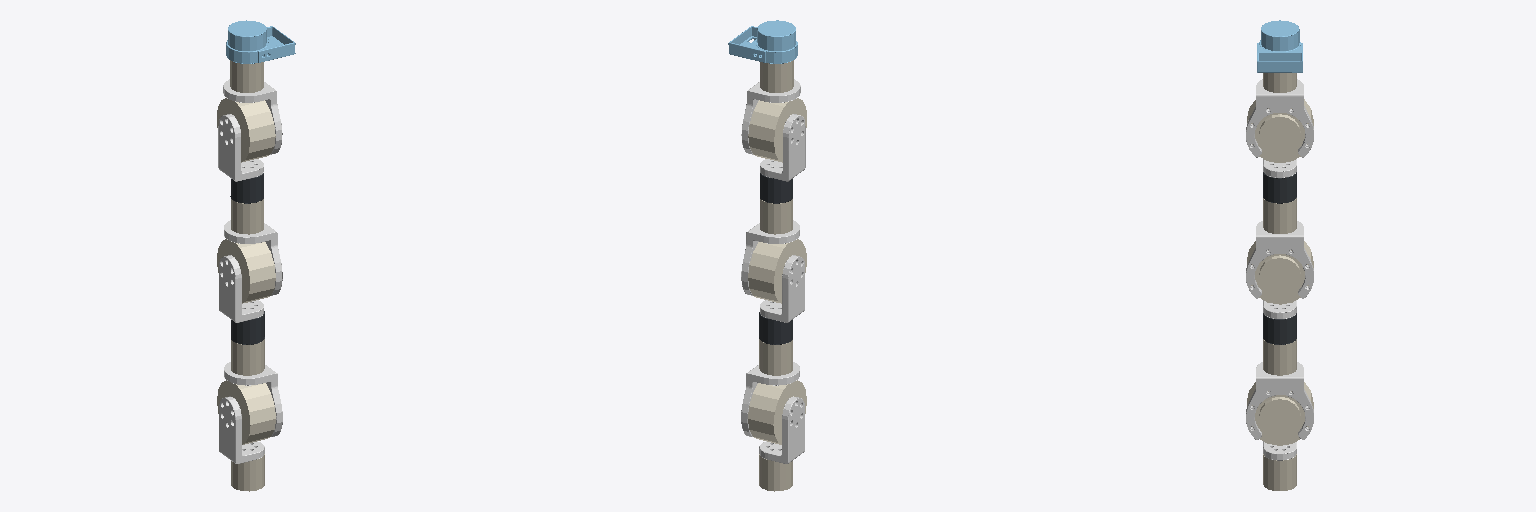
URDF robot description (simple_assembly):
<!--URDF generated by ONSHAPE BY PTC INC, 1.214-->
<robot name="simple_assembly">
    <link name="cam_mount_assy__1_" />
    <link name="part_1">
        <inertial>
            <mass value="0.392289" />
            <origin xyz="-7.19431e-18 2.31112e-33 0.02825" rpy="0 -0 0" />
            <inertia ixx="0.000184016" ixy="0" ixz="0" iyy="0.000184016" iyz="0" izz="0.000159318" />
        </inertial>
        <visual>
            <origin xyz="-5.31105e-18 -1.74512e-18 0" rpy="0 -0 0" />
            <geometry>
                <mesh filename="package://full_assembly/meshes/Part_1.stl" scale="1 1 1" />
            </geometry>
            <material name="0.800000_0.776471_0.713725_0.000000_0.000000">
                <color rgba="0.8 0.776471 0.713726 1" />
            </material>
        </visual>
    </link>
    <link name="part_1_1">
        <inertial>
            <mass value="0.326785" />
            <origin xyz="0.0216933 3.23641e-08 -0.0482815" rpy="0 -0 0" />
            <inertia ixx="0.000594265" ixy="-2.33687e-11" ixz="0.000101405" iyy="0.000441844" iyz="-4.36749e-10" izz="0.000424915" />
        </inertial>
        <visual>
            <origin xyz="-1.41337e-14 5.86445e-18 -0.06225" rpy="0 -0 0" />
            <geometry>
                <mesh filename="package://full_assembly/meshes/Part_1_1.stl" scale="1 1 1" />
            </geometry>
            <material name="0.917647_0.917647_0.917647_0.000000_0.000000">
                <color rgba="0.917647 0.917647 0.917647 1" />
            </material>
        </visual>
    </link>
    <link name="part_1_10">
        <inertial>
            <mass value="0.326785" />
            <origin xyz="0.0216933 3.23641e-08 -0.0482815" rpy="0 -0 0" />
            <inertia ixx="0.000594265" ixy="-2.33687e-11" ixz="0.000101405" iyy="0.000441844" iyz="-4.36749e-10" izz="0.000424915" />
        </inertial>
        <visual>
            <origin xyz="-1.41337e-14 5.86445e-18 -0.06225" rpy="0 -0 0" />
            <geometry>
                <mesh filename="package://full_assembly/meshes/Part_1_1.stl" scale="1 1 1" />
            </geometry>
            <material name="0.917647_0.917647_0.917647_0.000000_0.000000">
                <color rgba="0.917647 0.917647 0.917647 1" />
            </material>
        </visual>
    </link>
    <link name="part_1_11">
        <inertial>
            <mass value="0.284011" />
            <origin xyz="-0.0234111 -2.25131e-10 0.0361492" rpy="0 -0 0" />
            <inertia ixx="0.000368023" ixy="4.4845e-12" ixz="8.61899e-05" iyy="0.000382149" iyz="-7.95148e-12" izz="0.000153368" />
        </inertial>
        <visual>
            <origin xyz="0 0 -0.0002" rpy="0 -0 0" />
            <geometry>
                <mesh filename="package://full_assembly/meshes/Part_1_3.stl" scale="1 1 1" />
            </geometry>
            <material name="0.917647_0.917647_0.917647_0.000000_0.000000">
                <color rgba="0.917647 0.917647 0.917647 1" />
            </material>
        </visual>
    </link>
    <link name="part_1_12">
        <inertial>
            <mass value="0.392289" />
            <origin xyz="-1.88325e-18 2.31112e-33 0.02825" rpy="0 -0 0" />
            <inertia ixx="0.000184016" ixy="0" ixz="0" iyy="0.000184016" iyz="0" izz="0.000159318" />
        </inertial>
        <visual>
            <origin xyz="0 -1.74512e-18 0" rpy="0 -0 0" />
            <geometry>
                <mesh filename="package://full_assembly/meshes/Part_1.stl" scale="1 1 1" />
            </geometry>
            <material name="0.800000_0.776471_0.713725_0.000000_0.000000">
                <color rgba="0.8 0.776471 0.713726 1" />
            </material>
        </visual>
    </link>
    <link name="part_1_13">
        <inertial>
            <mass value="0.284011" />
            <origin xyz="-0.0234111 -2.25131e-10 0.0361492" rpy="0 -0 0" />
            <inertia ixx="0.000368023" ixy="4.4845e-12" ixz="8.61899e-05" iyy="0.000382149" iyz="-7.95148e-12" izz="0.000153368" />
        </inertial>
        <visual>
            <origin xyz="0 0 -0.0002" rpy="0 -0 0" />
            <geometry>
                <mesh filename="package://full_assembly/meshes/Part_1_3.stl" scale="1 1 1" />
            </geometry>
            <material name="0.917647_0.917647_0.917647_0.000000_0.000000">
                <color rgba="0.917647 0.917647 0.917647 1" />
            </material>
        </visual>
    </link>
    <link name="part_1_14">
        <inertial>
            <mass value="0.392289" />
            <origin xyz="-1.88325e-18 2.31112e-33 0.02825" rpy="0 -0 0" />
            <inertia ixx="0.000184016" ixy="0" ixz="0" iyy="0.000184016" iyz="0" izz="0.000159318" />
        </inertial>
        <visual>
            <origin xyz="0 -1.74512e-18 0" rpy="0 -0 0" />
            <geometry>
                <mesh filename="package://full_assembly/meshes/Part_1.stl" scale="1 1 1" />
            </geometry>
            <material name="0.800000_0.776471_0.713725_0.000000_0.000000">
                <color rgba="0.8 0.776471 0.713726 1" />
            </material>
        </visual>
    </link>
    <link name="part_1_15">
        <inertial>
            <mass value="9.94808e-05" />
            <origin xyz="-4.05706e-08 1.55401e-08 -0.015" rpy="0 -0 0" />
            <inertia ixx="3.37032e-08" ixy="0" ixz="0" iyy="3.37032e-08" iyz="0" izz="5.25037e-08" />
        </inertial>
        <visual>
            <origin xyz="-4.09465e-08 1.55389e-08 -0.03" rpy="0 -0 0" />
            <geometry>
                <mesh filename="package://full_assembly/meshes/Part_1_5.stl" scale="1 1 1" />
            </geometry>
            <material name="0.615686_0.811765_0.929412_0.000000_0.000000">
                <color rgba="0.615686 0.811765 0.929412 1" />
            </material>
        </visual>
    </link>
    <link name="part_1_16">
        <inertial>
            <mass value="7.29541e-05" />
            <origin xyz="-2.19833e-05 -2.09428e-08 0.00997844" rpy="0 -0 0" />
            <inertia ixx="2.62877e-08" ixy="-1.14213e-15" ixz="2.83597e-12" iyy="2.63584e-08" iyz="3.65213e-15" izz="4.77548e-08" />
        </inertial>
        <visual>
            <origin xyz="-4.76287e-08 -1.8008e-08 0.01125" rpy="0 -0 0" />
            <geometry>
                <mesh filename="package://full_assembly/meshes/Part_1_6.stl" scale="1 1 1" />
            </geometry>
            <material name="0.615686_0.811765_0.929412_0.000000_0.000000">
                <color rgba="0.615686 0.811765 0.929412 1" />
            </material>
        </visual>
    </link>
    <link name="part_1_17">
        <inertial>
            <mass value="3.51671e-05" />
            <origin xyz="-0.0013579 0.0396975 -0.00952187" rpy="0 -0 0" />
            <inertia ixx="1.25577e-08" ixy="6.63795e-10" ixz="-3.27558e-10" iyy="2.86745e-08" iyz="8.6627e-10" izz="3.81891e-08" />
        </inertial>
        <visual>
            <origin xyz="0 -2.14926e-18 -0.0185" rpy="0 -0 0" />
            <geometry>
                <mesh filename="package://full_assembly/meshes/Part_1_7.stl" scale="1 1 1" />
            </geometry>
            <material name="0.615686_0.811765_0.929412_0.000000_0.000000">
                <color rgba="0.615686 0.811765 0.929412 1" />
            </material>
        </visual>
    </link>
    <link name="part_1_2">
        <inertial>
            <mass value="1.49866" />
            <origin xyz="-9.38573e-18 -8.98462e-20 0.028166" rpy="0 -0 0" />
            <inertia ixx="0.0015335" ixy="0" ixz="0" iyy="0.0015335" iyz="0" izz="0.00224985" />
        </inertial>
        <visual>
            <origin xyz="-1.10049e-17 -3.42901e-18 0" rpy="0 -0 0" />
            <geometry>
                <mesh filename="package://full_assembly/meshes/Part_1_2.stl" scale="1 1 1" />
            </geometry>
            <material name="0.901961_0.878431_0.811765_0.000000_0.000000">
                <color rgba="0.901961 0.878431 0.811765 1" />
            </material>
        </visual>
    </link>
    <link name="part_1_3">
        <inertial>
            <mass value="1.49866" />
            <origin xyz="1.61912e-18 -8.98462e-20 0.028166" rpy="0 -0 0" />
            <inertia ixx="0.0015335" ixy="0" ixz="0" iyy="0.0015335" iyz="0" izz="0.00224985" />
        </inertial>
        <visual>
            <origin xyz="0 -3.42901e-18 0" rpy="0 -0 0" />
            <geometry>
                <mesh filename="package://full_assembly/meshes/Part_1_2.stl" scale="1 1 1" />
            </geometry>
            <material name="0.901961_0.878431_0.811765_0.000000_0.000000">
                <color rgba="0.901961 0.878431 0.811765 1" />
            </material>
        </visual>
    </link>
    <link name="part_1_4">
        <inertial>
            <mass value="0.284011" />
            <origin xyz="-0.0234111 -2.25131e-10 0.0361492" rpy="0 -0 0" />
            <inertia ixx="0.000368023" ixy="4.4845e-12" ixz="8.61899e-05" iyy="0.000382149" iyz="-7.95148e-12" izz="0.000153368" />
        </inertial>
        <visual>
            <origin xyz="0 0 -0.0002" rpy="0 -0 0" />
            <geometry>
                <mesh filename="package://full_assembly/meshes/Part_1_3.stl" scale="1 1 1" />
            </geometry>
            <material name="0.917647_0.917647_0.917647_0.000000_0.000000">
                <color rgba="0.917647 0.917647 0.917647 1" />
            </material>
        </visual>
    </link>
    <link name="part_1_5">
        <inertial>
            <mass value="0.319085" />
            <origin xyz="-3.6505e-08 -1.40559e-08 0.0234998" rpy="0 -0 0" />
            <inertia ixx="0.000124216" ixy="-2.09268e-14" ixz="-2.75013e-13" iyy="0.000124216" iyz="1.7298e-13" izz="0.000131075" />
        </inertial>
        <visual>
            <origin xyz="-3.67805e-08 -1.40564e-08 0" rpy="0 -0 0" />
            <geometry>
                <mesh filename="package://full_assembly/meshes/Part_1_4.stl" scale="1 1 1" />
            </geometry>
            <material name="0.262745_0.282353_0.301961_0.000000_0.000000">
                <color rgba="0.262745 0.282353 0.301961 1" />
            </material>
        </visual>
    </link>
    <link name="part_1_6">
        <inertial>
            <mass value="0.326785" />
            <origin xyz="0.0216933 3.23641e-08 -0.0482815" rpy="0 -0 0" />
            <inertia ixx="0.000594265" ixy="-2.33687e-11" ixz="0.000101405" iyy="0.000441844" iyz="-4.36749e-10" izz="0.000424915" />
        </inertial>
        <visual>
            <origin xyz="-1.41337e-14 5.86445e-18 -0.06225" rpy="0 -0 0" />
            <geometry>
                <mesh filename="package://full_assembly/meshes/Part_1_1.stl" scale="1 1 1" />
            </geometry>
            <material name="0.917647_0.917647_0.917647_0.000000_0.000000">
                <color rgba="0.917647 0.917647 0.917647 1" />
            </material>
        </visual>
    </link>
    <link name="part_1_7">
        <inertial>
            <mass value="1.49866" />
            <origin xyz="1.61912e-18 -8.98462e-20 0.028166" rpy="0 -0 0" />
            <inertia ixx="0.0015335" ixy="0" ixz="0" iyy="0.0015335" iyz="0" izz="0.00224985" />
        </inertial>
        <visual>
            <origin xyz="0 -3.42901e-18 0" rpy="0 -0 0" />
            <geometry>
                <mesh filename="package://full_assembly/meshes/Part_1_2.stl" scale="1 1 1" />
            </geometry>
            <material name="0.901961_0.878431_0.811765_0.000000_0.000000">
                <color rgba="0.901961 0.878431 0.811765 1" />
            </material>
        </visual>
    </link>
    <link name="part_1_8">
        <inertial>
            <mass value="0.392289" />
            <origin xyz="-1.88325e-18 2.31112e-33 0.02825" rpy="0 -0 0" />
            <inertia ixx="0.000184016" ixy="0" ixz="0" iyy="0.000184016" iyz="0" izz="0.000159318" />
        </inertial>
        <visual>
            <origin xyz="0 -1.74512e-18 0" rpy="0 -0 0" />
            <geometry>
                <mesh filename="package://full_assembly/meshes/Part_1.stl" scale="1 1 1" />
            </geometry>
            <material name="0.800000_0.776471_0.713725_0.000000_0.000000">
                <color rgba="0.8 0.776471 0.713726 1" />
            </material>
        </visual>
    </link>
    <link name="part_1_9">
        <inertial>
            <mass value="0.319085" />
            <origin xyz="-3.6505e-08 -1.40559e-08 0.0234998" rpy="0 -0 0" />
            <inertia ixx="0.000124216" ixy="-2.09268e-14" ixz="-2.75013e-13" iyy="0.000124216" iyz="1.7298e-13" izz="0.000131075" />
        </inertial>
        <visual>
            <origin xyz="-3.67805e-08 -1.40564e-08 0" rpy="0 -0 0" />
            <geometry>
                <mesh filename="package://full_assembly/meshes/Part_1_4.stl" scale="1 1 1" />
            </geometry>
            <material name="0.262745_0.282353_0.301961_0.000000_0.000000">
                <color rgba="0.262745 0.282353 0.301961 1" />
            </material>
        </visual>
    </link>
    <link name="root" />
    <joint name="fastened_1_0" type="fixed">
        <origin xyz="0 -1.72433e-18 0" rpy="0 -0 0" />
        <axis xyz="0 0 -1" />
        <parent link="root" />
        <child link="part_1_12" />
    </joint>
    <joint name="fastened_1_1" type="fixed">
        <origin xyz="-4.76287e-08 -1.8008e-08 0.013" rpy="-2.77556e-17 -3.46945e-18 4.81482e-35" />
        <axis xyz="0 0 1" />
        <parent link="part_1_16" />
        <child link="cam_mount_assy__1_" />
    </joint>
    <joint name="fastened_2_0" type="fixed">
        <origin xyz="-2.77556e-17 0 0.062" rpy="0 1.5708 1.5708" />
        <axis xyz="-1 0 0" />
        <parent link="part_1_7" />
        <child link="part_1_6" />
    </joint>
    <joint name="fastened_2_1" type="fixed">
        <origin xyz="-3.18511e-08 -3.86443e-08 0.0195" rpy="-1.76942e-16 2.42861e-17 -1.5708" />
        <axis xyz="0 0 1" />
        <parent link="part_1_16" />
        <child link="part_1_17" />
    </joint>
    <joint name="fastened_3_0" type="fixed">
        <origin xyz="-3.18511e-08 -3.86443e-08 0.0195" rpy="3.14159 1.20737e-15 1.17961e-15" />
        <axis xyz="0 0 -1" />
        <parent link="part_1_16" />
        <child link="part_1_15" />
    </joint>
    <joint name="fastened_3_1" type="fixed">
        <origin xyz="0.0351604 -1.10739e-08 -0.07495" rpy="-3.14159 6.6664e-15 3.14159" />
        <axis xyz="0 0 -1" />
        <parent link="part_1_6" />
        <child link="part_1_14" />
    </joint>
    <joint name="fastened_4_0" type="fixed">
        <origin xyz="1.62635e-12 -2.81135e-08 0.047" rpy="-3.46945e-17 1.38778e-17 -2.40741e-34" />
        <axis xyz="0 0 -1" />
        <parent link="part_1_9" />
        <child link="part_1_11" />
    </joint>
    <joint name="fastened_5_0" type="fixed">
        <origin xyz="0 3.1225e-17 0.062" rpy="0 1.5708 -4.71239" />
        <axis xyz="-1 0 0" />
        <parent link="part_1_2" />
        <child link="part_1_1" />
    </joint>
    <joint name="fastened_6_0" type="fixed">
        <origin xyz="0.0351604 -1.10739e-08 -0.07495" rpy="3.14159 1.11022e-16 3.14159" />
        <axis xyz="0 0 -1" />
        <parent link="part_1_1" />
        <child link="part_1" />
    </joint>
    <joint name="fastened_7_0" type="fixed">
        <origin xyz="1.62642e-12 -2.81135e-08 0.047" rpy="2.77556e-17 6.93889e-18 -1.38778e-17" />
        <axis xyz="0 0 -1" />
        <parent link="part_1_5" />
        <child link="part_1_4" />
    </joint>
    <joint name="fastened_8_0" type="fixed">
        <origin xyz="0 4.85723e-17 0.062" rpy="0 1.5708 1.5708" />
        <axis xyz="-1 0 0" />
        <parent link="part_1_3" />
        <child link="part_1_10" />
    </joint>
    <joint name="fastened_9_0" type="fixed">
        <origin xyz="0.0351604 -1.10739e-08 -0.07495" rpy="-3.14159 -8.39606e-16 -1.5708" />
        <axis xyz="0 0 -1" />
        <parent link="part_1_10" />
        <child link="part_1_8" />
    </joint>
    <joint name="revolute_1_0" type="revolute">
        <origin xyz="1.17451e-25 1.72433e-18 0.0565" rpy="0 0 0" />
        <axis xyz="0 0 -1" />
        <parent link="part_1_12" />
        <child link="part_1_13" />
        <limit lower="-6.28318" upper="6.28318" effort="150.0" velocity="15.71" />
    </joint>
    <joint name="revolute_2_0" type="revolute">
        <origin xyz="-0.027299 -5.21803e-08 0.0815462" rpy="-1.5708 0 -1.5708" />
        <axis xyz="0 0 1" />
        <parent link="part_1_13" />
        <child link="part_1_7" />
        <limit lower="-1.5708" upper="1.5708" effort="27.0" velocity="5.45" />
    </joint>
    <joint name="revolute_3_0" type="revolute">
        <origin xyz="-2.92192e-17 0 0.0565" rpy="0 0 0" />
        <axis xyz="0 0 -1" />
        <parent link="part_1_14" />
        <child link="part_1_9" />
        <limit lower="-6.28318" upper="6.28318" effort="150.0" velocity="15.71" />
    </joint>
    <joint name="revolute_4_0" type="revolute">
        <origin xyz="-0.027299 -5.21803e-08 0.0815462" rpy="1.5708 3.14159 1.5708" />
        <axis xyz="0 0 1" />
        <parent link="part_1_11" />
        <child link="part_1_2" />
        <limit lower="-1.91986" upper="1.91986" effort="27.0" velocity="5.45" />
    </joint>
    <joint name="revolute_5_0" type="revolute">
        <origin xyz="2.498e-16 1.11022e-16 0.0565" rpy="0 0 0" />
        <axis xyz="0 0 -1" />
        <parent link="part_1" />
        <child link="part_1_5" />
        <limit lower="-6.28318" upper="6.28318" effort="150.0" velocity="15.71" />
    </joint>
    <joint name="revolute_6_0" type="revolute">
        <origin xyz="-0.027299 -5.21803e-08 0.0815462" rpy="-1.5708 0 -1.5708" />
        <axis xyz="0 0 1" />
        <parent link="part_1_4" />
        <child link="part_1_3" />
        <limit lower="-1.91986" upper="1.91986" effort="27.0" velocity="5.45" />
    </joint>
    <joint name="revolute_7_0" type="revolute">
        <origin xyz="5.55112e-17 0 0.0565" rpy="0 0 1.5708" />
        <axis xyz="0 0 -1" />
        <parent link="part_1_8" />
        <child link="part_1_16" />
        <limit lower="-3.14159" upper="3.14159" effort="150.0" velocity="15.71" />
    </joint>

    <link name="wrist_link" />
    <joint name="wrist_link_joint" type="fixed">
        <origin xyz="0 0 0" rpy="0 0 0" />
        <parent link="part_1_16" />
        <child link="wrist_link" />
    </joint>
</robot>

--- What the picture shows (computed from the rendered views, not written in the file) ---
3 views of the same robot in one strip: view 1: azimuth 30°, elevation 25°; view 2: azimuth 150°, elevation 25°; view 3: azimuth 270°, elevation 25° (orthographic).
Model simple_assembly with 21 links and 20 joints (7 revolute, 13 fixed), rooted at root, posed all joints at 0.
Visible links, largest first — view 1: part_1_3, part_1_7, part_1_2, part_1_13, part_1_4, part_1_11, part_1_1, part_1_10, part_1_6, part_1_15, part_1_14, part_1 (+5 smaller); view 2: part_1_3, part_1_7, part_1_2, part_1_13, part_1_4, part_1_11, part_1_1, part_1_6, part_1_10, part_1_15, part_1_14, part_1 (+5 smaller); view 3: part_1_2, part_1_10, part_1_6, part_1_7, part_1_3, part_1_1, part_1_17, part_1_15, part_1_12, part_1, part_1_14, part_1_9 (+2 smaller).
Boxes of the visible links, x1=… form: part_1_3: x1=217, y1=98, x2=275, y2=162; part_1_7: x1=217, y1=380, x2=275, y2=444; part_1_2: x1=217, y1=239, x2=275, y2=303; part_1_13: x1=219, y1=396, x2=264, y2=463; part_1_4: x1=218, y1=114, x2=263, y2=181; part_1_11: x1=219, y1=255, x2=263, y2=322; part_1_1: x1=224, y1=220, x2=282, y2=295; part_1_10: x1=223, y1=79, x2=282, y2=154; part_1_6: x1=224, y1=362, x2=282, y2=436; part_1_15: x1=228, y1=20, x2=266, y2=50; part_1_14: x1=231, y1=339, x2=264, y2=375; part_1: x1=231, y1=199, x2=263, y2=234; part_1_3: x1=748, y1=98, x2=806, y2=162; part_1_7: x1=748, y1=380, x2=806, y2=444; part_1_2: x1=748, y1=239, x2=806, y2=303; part_1_13: x1=759, y1=396, x2=804, y2=463; part_1_4: x1=760, y1=114, x2=805, y2=181; part_1_11: x1=760, y1=255, x2=804, y2=322; part_1_1: x1=741, y1=220, x2=799, y2=295; part_1_6: x1=741, y1=362, x2=799, y2=436; part_1_10: x1=741, y1=79, x2=800, y2=154; part_1_15: x1=757, y1=20, x2=795, y2=50; part_1_14: x1=759, y1=339, x2=792, y2=375; part_1: x1=760, y1=199, x2=792, y2=234; part_1_2: x1=1247, y1=241, x2=1313, y2=304; part_1_10: x1=1246, y1=79, x2=1313, y2=157; part_1_6: x1=1246, y1=362, x2=1313, y2=439; part_1_7: x1=1247, y1=382, x2=1313, y2=445; part_1_3: x1=1247, y1=99, x2=1313, y2=162; part_1_1: x1=1246, y1=221, x2=1313, y2=298; part_1_17: x1=1257, y1=43, x2=1302, y2=72; part_1_15: x1=1261, y1=20, x2=1299, y2=50; part_1_12: x1=1263, y1=454, x2=1296, y2=490; part_1: x1=1263, y1=198, x2=1296, y2=233; part_1_14: x1=1263, y1=339, x2=1296, y2=375; part_1_9: x1=1263, y1=313, x2=1296, y2=344.
Bounding box of the posed robot: 0.1107 × 0.114 × 0.839 m (x, y, z).
Meshes: 8 distinct files referenced, 18 mesh visuals loaded (8 binary STL).
